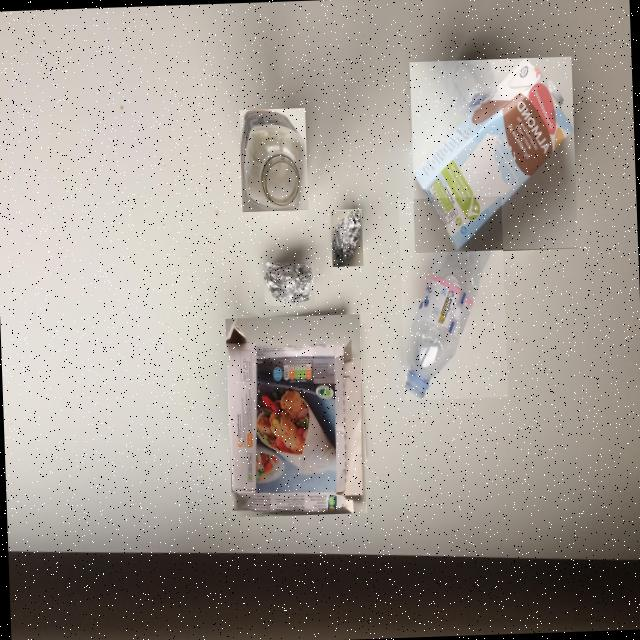Aluminium foil: (264, 262, 314, 305), (332, 210, 362, 266)
Clear plastic bottle: (405, 197, 502, 399), (240, 110, 307, 210)
Drink carton: (414, 58, 574, 251)
Other carton: (226, 318, 364, 513)
